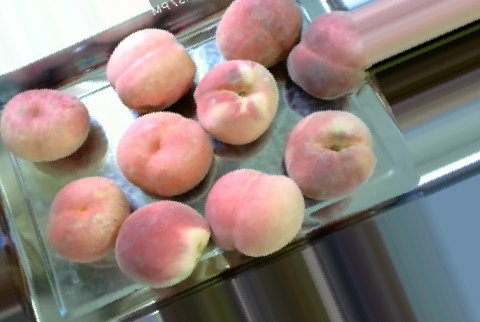Peach: (205, 169, 305, 258), (112, 200, 210, 287), (286, 108, 377, 199), (116, 110, 213, 194), (42, 175, 131, 264), (194, 58, 280, 147), (107, 26, 196, 111), (286, 8, 368, 98), (1, 89, 95, 161), (216, 0, 303, 63)
